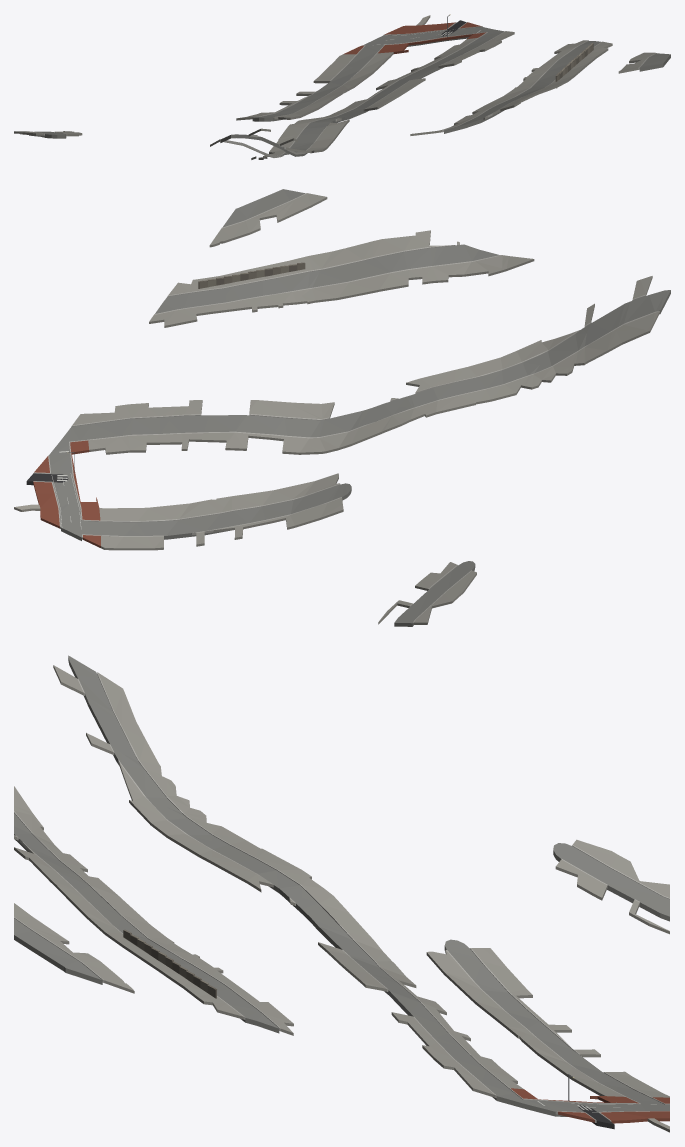
3 views of the same model, one above another, from view 1: azimuth 30°, elevation 25°; view 2: azimuth 150°, elevation 25°; view 3: azimuth 270°, elevation 25° (orthographic). The views are drawn at different scales.
Bounding box in the file's own units: 147 × 59.89 × 146.
